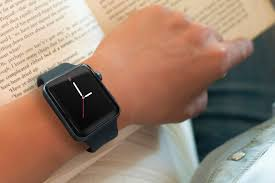clock: (47, 72, 115, 136)
